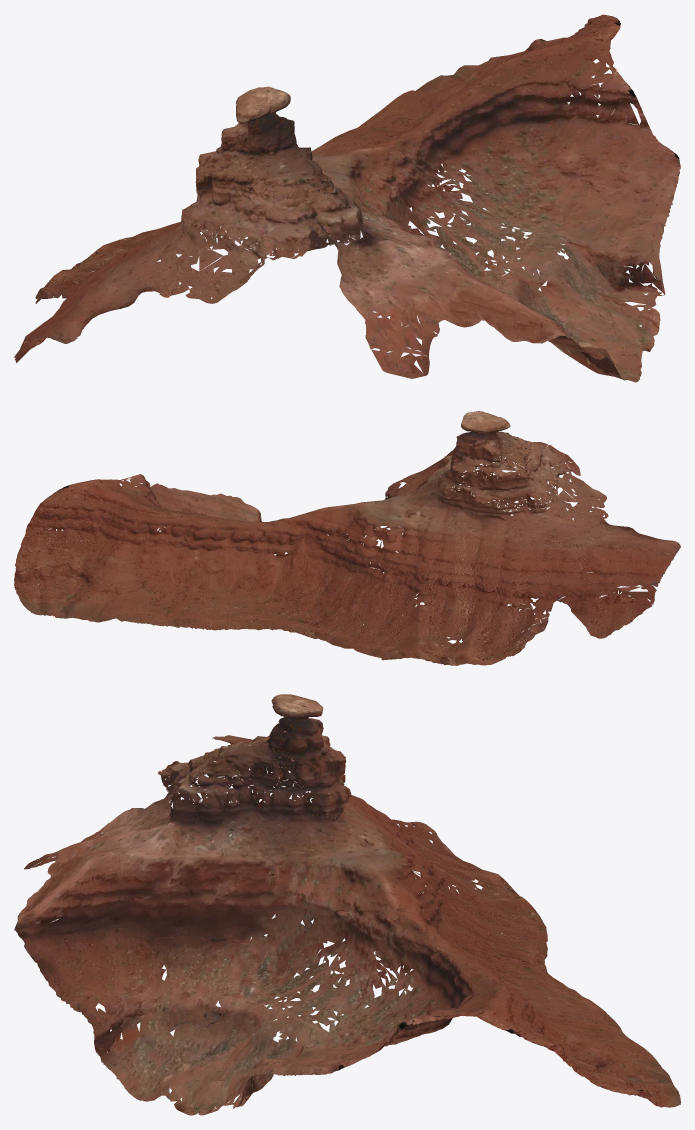
The picture shows the model from 3 angles, top to bottom: view 1: azimuth 30°, elevation 25°; view 2: azimuth 150°, elevation 25°; view 3: azimuth 270°, elevation 25°; orthographic projection. The views are drawn at different scales.
Visible parts, largest first — view 1: Material_001-material (×2); view 2: Material_001-material (×2); view 3: Material_001-material (×2).
Boxes of the visible parts, x1,y1,x2,y2 form: Material_001-material (×2): (14,14,680,382); Material_001-material (×2): (14,411,680,665); Material_001-material (×2): (14,694,680,1115).
Size of the model in its own units: 113 by 42.58 by 95.87.
Materials: 1 (1 with a texture image).
